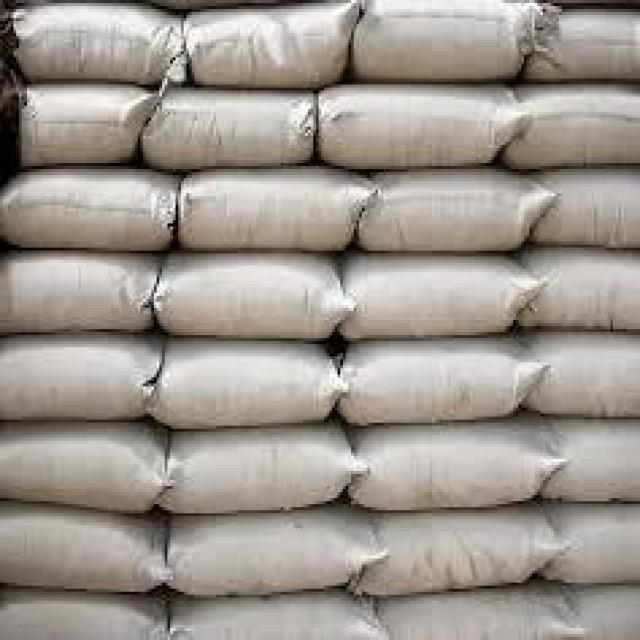gunny_bag: (346, 416, 569, 514), (336, 331, 553, 429), (354, 503, 573, 600), (165, 504, 385, 596), (315, 79, 534, 171), (334, 249, 549, 342), (353, 166, 561, 254), (148, 337, 342, 430), (162, 423, 356, 515), (177, 165, 373, 255), (150, 253, 346, 343), (349, 0, 563, 79), (0, 164, 179, 254), (1, 419, 167, 516), (183, 0, 363, 89), (139, 83, 317, 172), (10, 0, 187, 88), (1, 500, 166, 593), (0, 331, 163, 422), (0, 248, 166, 334), (6, 83, 161, 169), (501, 79, 640, 171), (365, 583, 589, 639), (168, 589, 389, 640), (516, 330, 640, 419), (518, 245, 640, 332), (524, 163, 639, 250), (523, 4, 640, 84), (535, 497, 640, 586), (539, 413, 640, 505), (1, 588, 169, 639), (561, 584, 638, 640)
